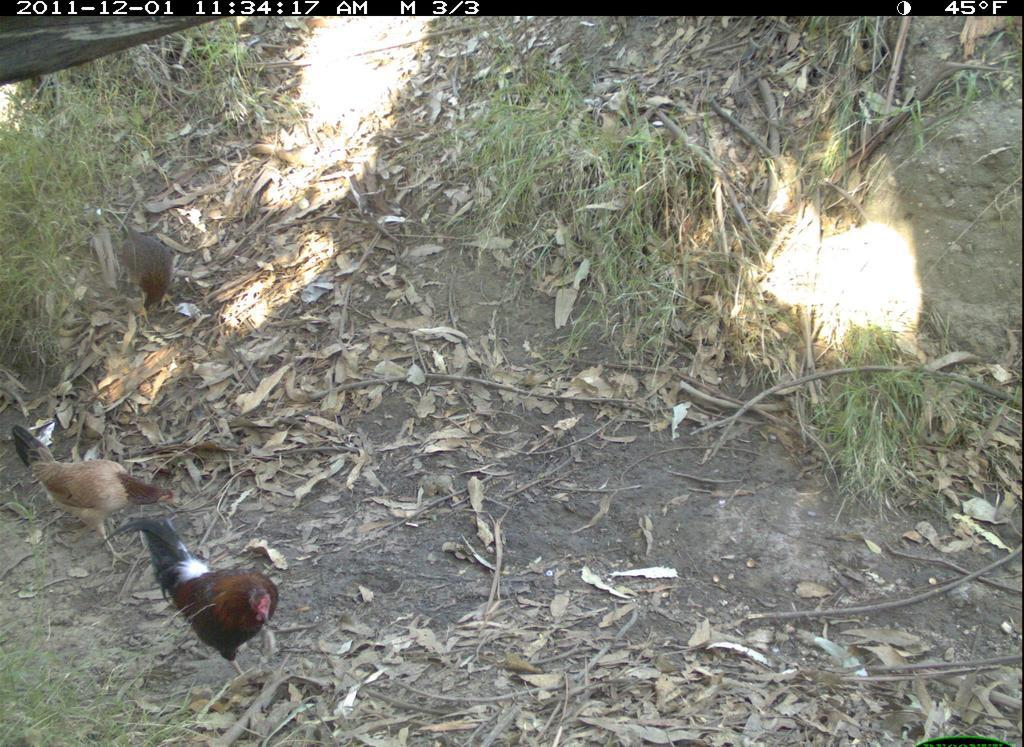bird: (103, 514, 289, 689), (7, 422, 180, 575), (114, 222, 186, 326)
